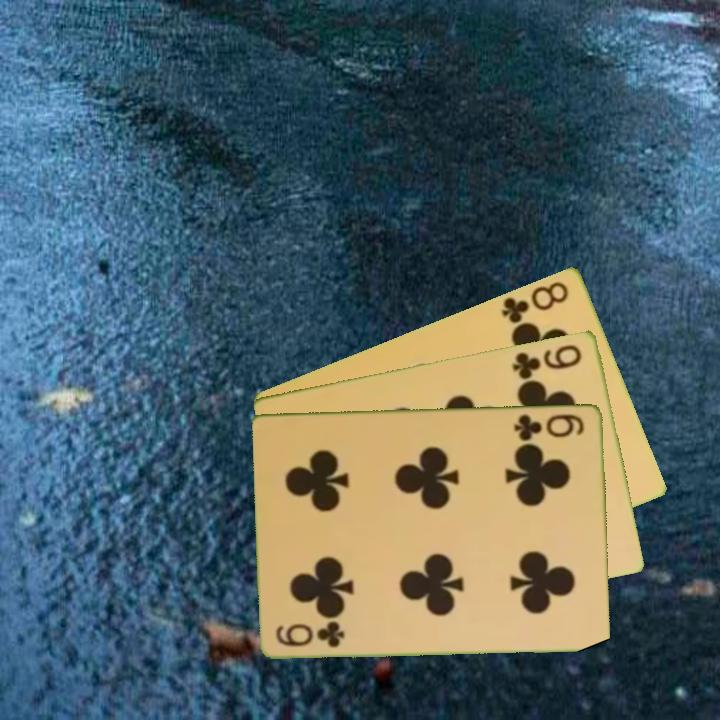6c: (511, 410, 587, 443), (273, 620, 348, 650)
8c: (498, 277, 572, 326)
9c: (508, 340, 585, 382)
